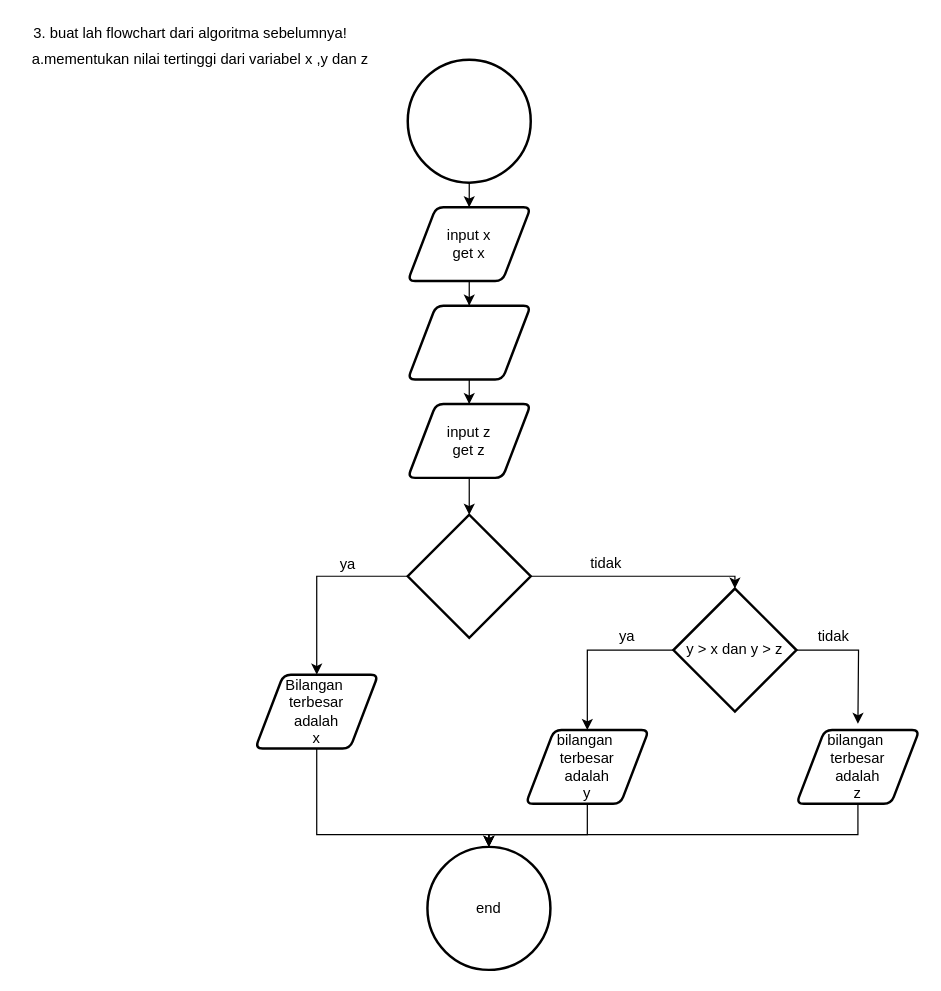
Image size: 941x991. Some labels were removed from this diagram. Each missing label, with the centre of its shape:
"input y get y" goes at point 468,342.
"Start" goes at point 468,120.
"x > y dan x > z" goes at point 468,575.
